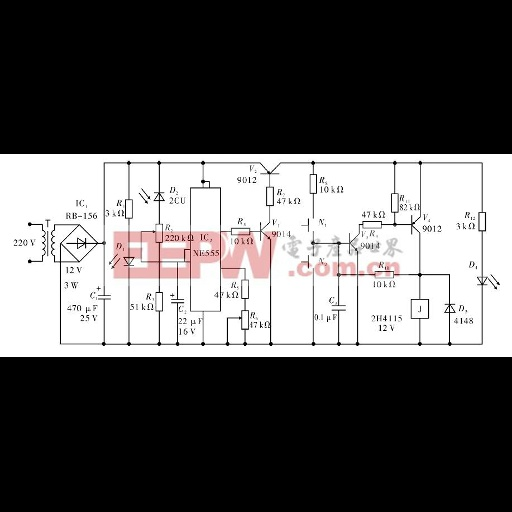capacitor: (330, 303, 347, 313)
firstpolarcapacitor: (96, 284, 115, 303), (168, 292, 187, 305)
firstresistance: (263, 184, 275, 208), (239, 279, 252, 300), (125, 196, 135, 222), (308, 173, 319, 196), (155, 289, 164, 316), (390, 191, 400, 215), (362, 220, 384, 230), (229, 227, 253, 236), (374, 270, 395, 280), (478, 211, 487, 233)
npn: (257, 217, 272, 245), (346, 231, 360, 256)
pnp: (257, 159, 282, 177), (409, 212, 423, 238)
seconddiode: (440, 300, 457, 315)
secondled: (139, 185, 166, 207), (473, 273, 503, 291), (108, 253, 137, 269)
transformer: (39, 224, 58, 262)
